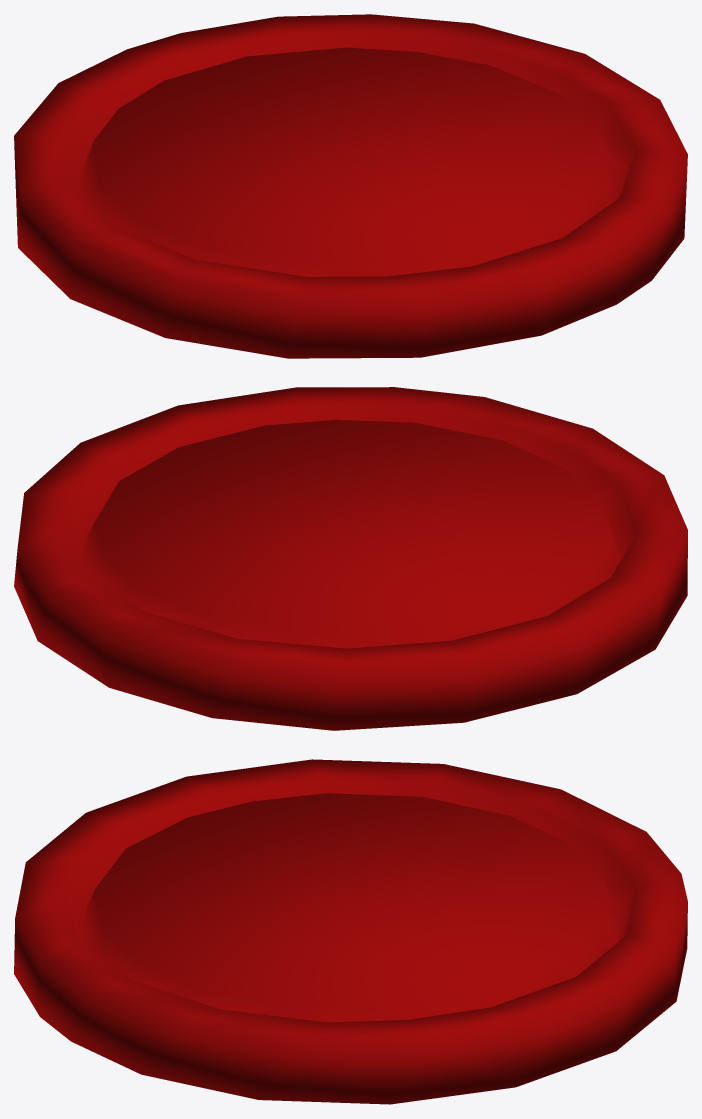
The model's file is puck.gltf.
3 renders of one model, top to bottom at view 1: azimuth 30°, elevation 25°; view 2: azimuth 150°, elevation 25°; view 3: azimuth 270°, elevation 25°, orthographic.
Parts seen in each view (by area): view 1: Cylinder_Cylinder.001; view 2: Cylinder_Cylinder.001; view 3: Cylinder_Cylinder.001.
Boxes of the visible parts, x1=… form: Cylinder_Cylinder.001: x1=14, y1=14, x2=687, y2=358; Cylinder_Cylinder.001: x1=14, y1=387, x2=687, y2=730; Cylinder_Cylinder.001: x1=14, y1=759, x2=687, y2=1104.
Bounding box in the file's own units: 2 × 0.2 × 2.
